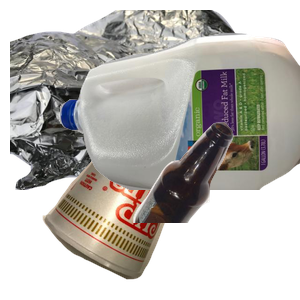glass: (130, 120, 300, 300)
metal: (10, 10, 250, 190)
plastic: (60, 30, 300, 210)
trash: (40, 121, 221, 300)
